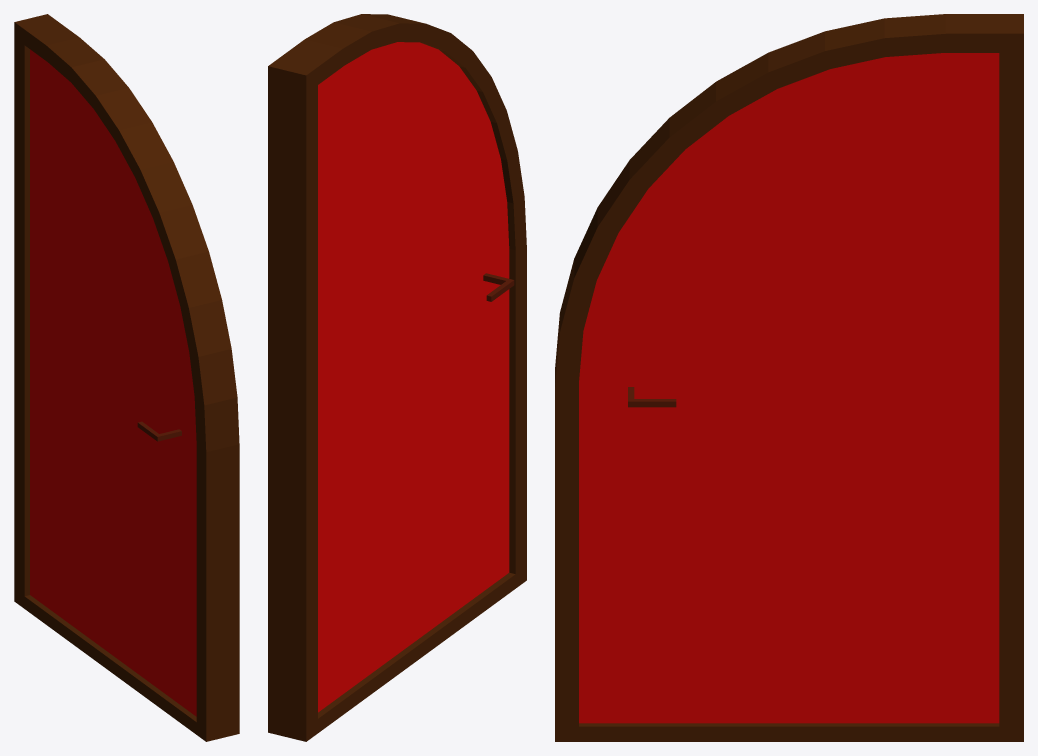
File: brama.fbx
The picture shows the model from 3 angles, left to right: view 1: azimuth 30°, elevation 25°; view 2: azimuth 150°, elevation 25°; view 3: azimuth 270°, elevation 25°; orthographic projection. The views are drawn at different scales.
Parts seen in each view (by area): view 1: drzwi; view 2: drzwi, klamka; view 3: drzwi.
Boxes of the visible parts, x1,y1,x2,y2 form: drzwi: (14, 14, 239, 741); drzwi: (268, 14, 526, 741); klamka: (483, 273, 514, 301); drzwi: (555, 14, 1023, 741).
Bounding box in the file's own units: 32.02 × 250 × 150.
